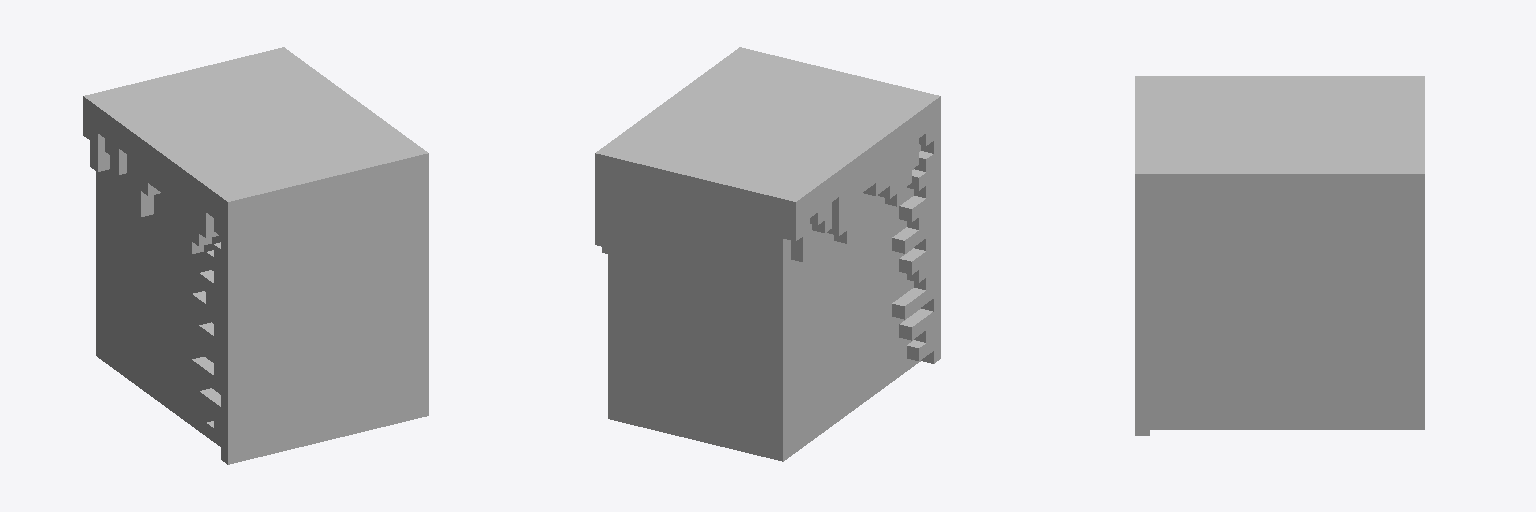
File: sueloPlataform-2 1.obj
3 renders of one model, left to right at view 1: azimuth 30°, elevation 25°; view 2: azimuth 150°, elevation 25°; view 3: azimuth 270°, elevation 25°, orthographic.
Visible parts, largest first — view 1: object 1; view 2: object 1; view 3: object 1.
Part boxes in pixels (bbox=[...]): object 1: bbox=[83, 47, 428, 464]; object 1: bbox=[595, 47, 940, 461]; object 1: bbox=[1135, 76, 1424, 435].
Bounding box in the file's own units: 1.6 × 2 × 2.